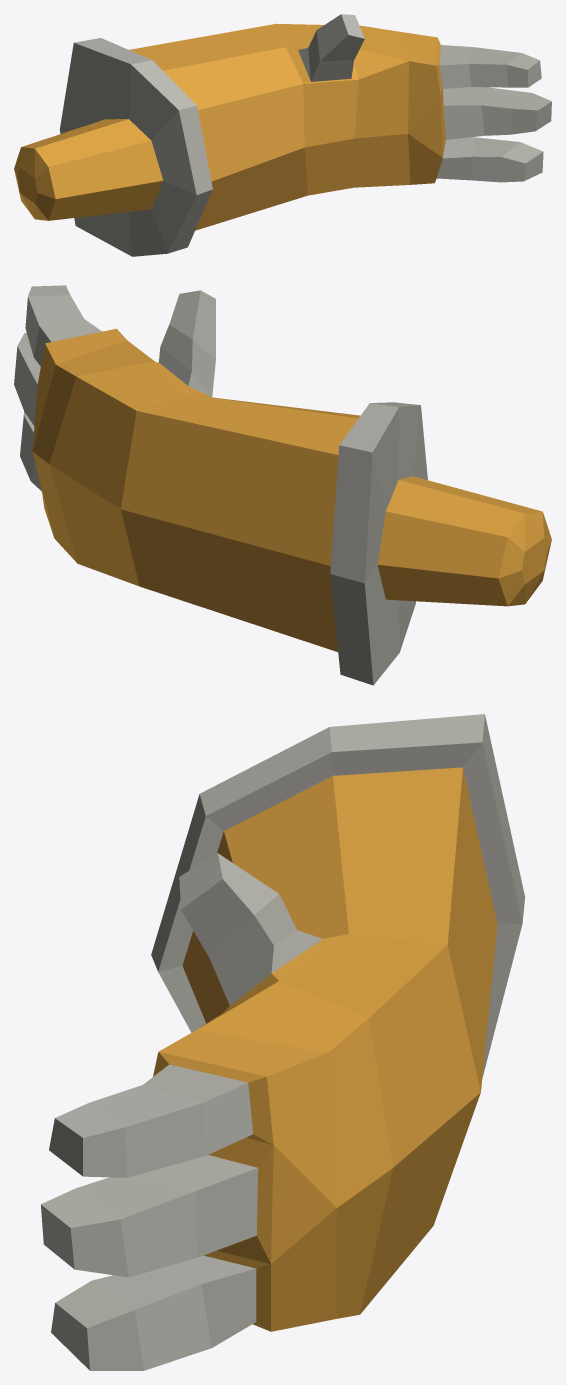
Rendered from Hand_Left.fbx.
3 views of the same model, one above another, from view 1: azimuth 30°, elevation 25°; view 2: azimuth 150°, elevation 25°; view 3: azimuth 270°, elevation 25° (orthographic). The views are drawn at different scales.
Visible parts, largest first — view 1: Hand_Left; view 2: Hand_Left; view 3: Hand_Left.
Part boxes in pixels (x1,y1,x2,y2): Hand_Left: (14,14,551,256); Hand_Left: (14,285,551,685); Hand_Left: (41,714,525,1370).
Size of the model in its own units: 190 by 86.02 by 86.6.
